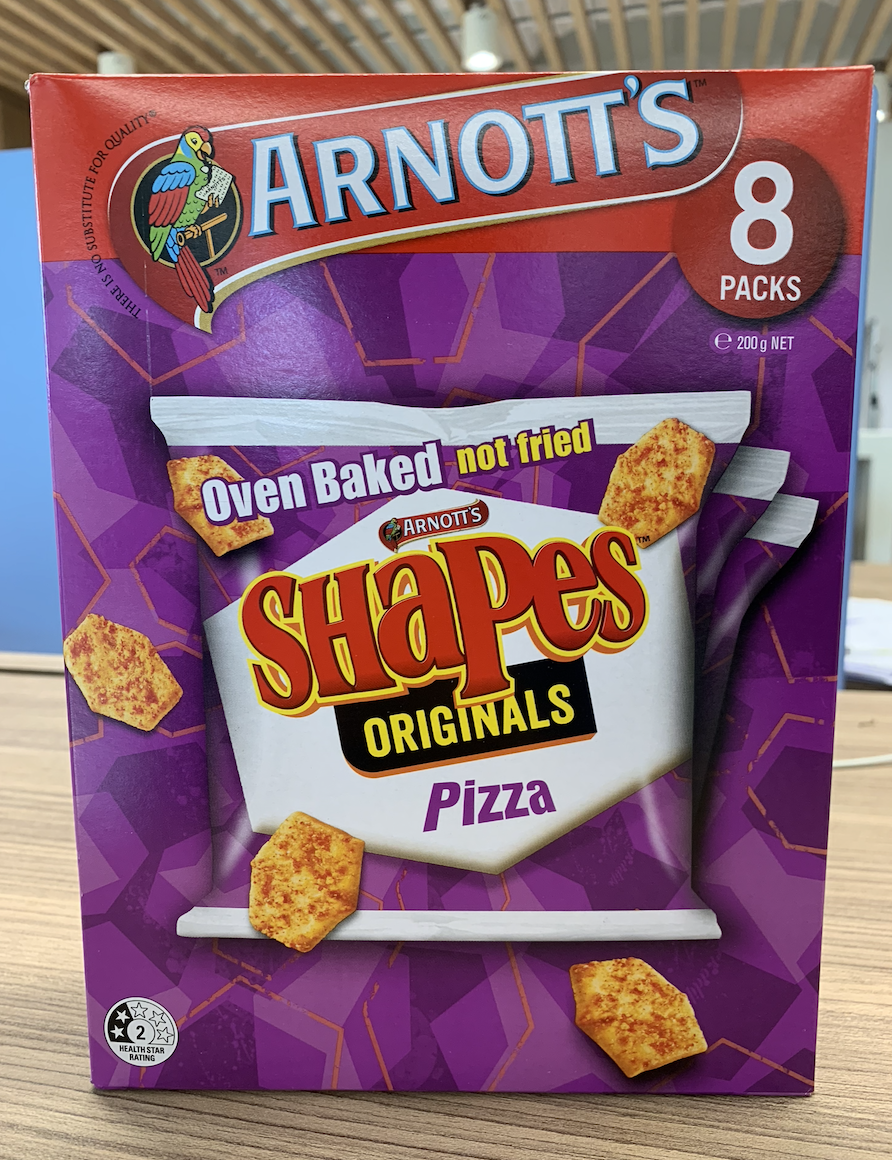crackers_150g: (90, 101, 821, 1075)
